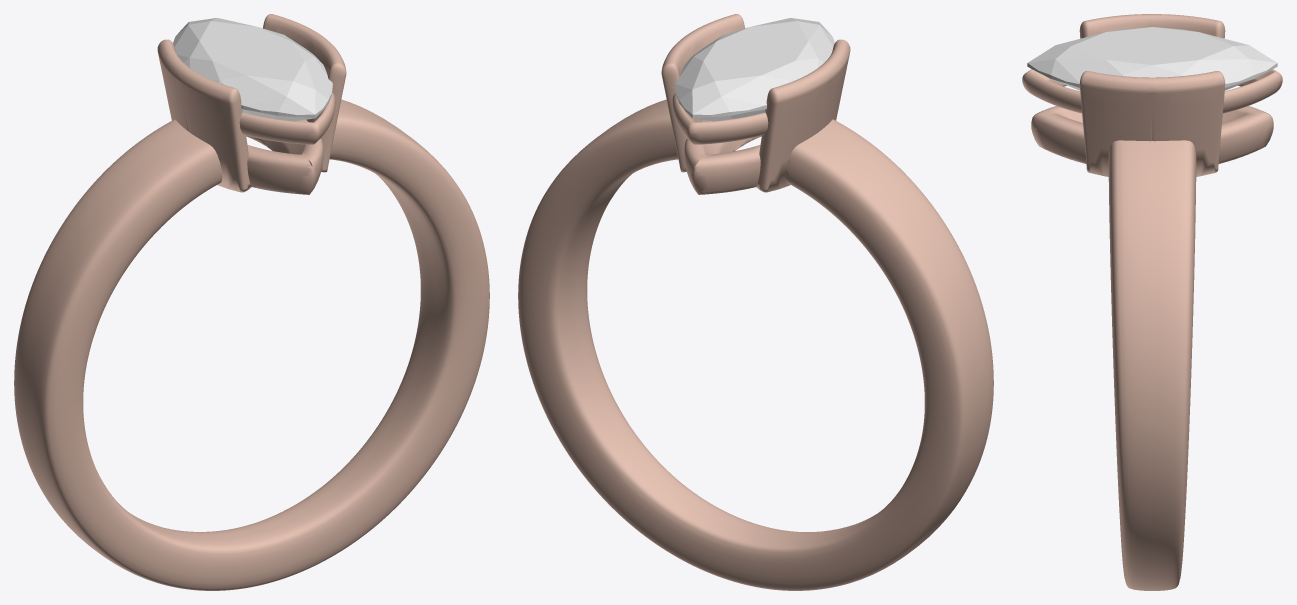
The model's file is diamond-marquise-rosegold-halfmoonbezel-straighttaperedband-nosidestones.glb.
3 renders of one model, left to right at view 1: azimuth 30°, elevation 25°; view 2: azimuth 150°, elevation 25°; view 3: azimuth 270°, elevation 25°, orthographic.
Visible parts, largest first — view 1: metal.003, stone; view 2: metal.003, stone; view 3: metal.003, stone.
Part boxes in pixels (box(x1,y1,x2,y2)): metal.003: box(14, 14, 489, 590); stone: box(173, 18, 332, 121); metal.003: box(518, 14, 993, 590); stone: box(675, 18, 834, 121); metal.003: box(1022, 14, 1282, 590); stone: box(1027, 27, 1277, 90).
Bounding box in the file's own units: 20.48 × 22.93 × 10.4.
